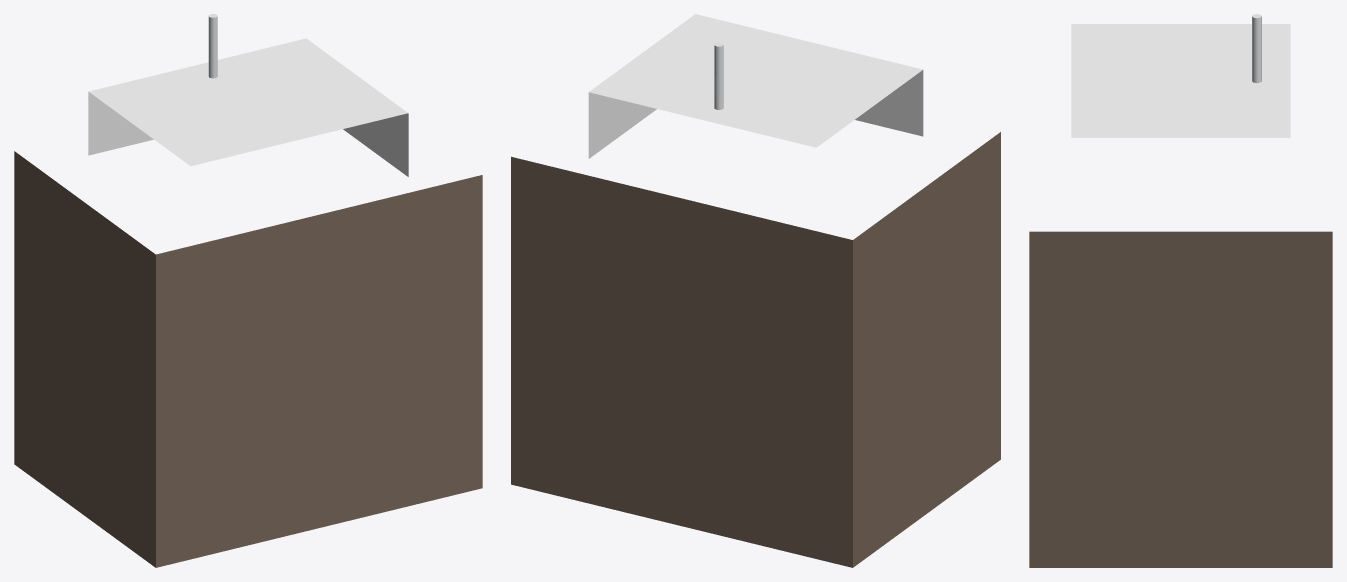
Rendered from basin.glb.
3 views of the same model, side by side, from view 1: azimuth 30°, elevation 25°; view 2: azimuth 150°, elevation 25°; view 3: azimuth 270°, elevation 25° (orthographic). The views are drawn at different scales.
Parts seen in each view (by area): view 1: RootNode; view 2: RootNode; view 3: RootNode.
Boxes of the visible parts, x1,y1,x2,y2 form: RootNode: [14, 14, 482, 567]; RootNode: [511, 14, 1000, 567]; RootNode: [1029, 14, 1332, 567].
Bounding box in the file's own units: 2.4 × 3.05 × 1.8.
